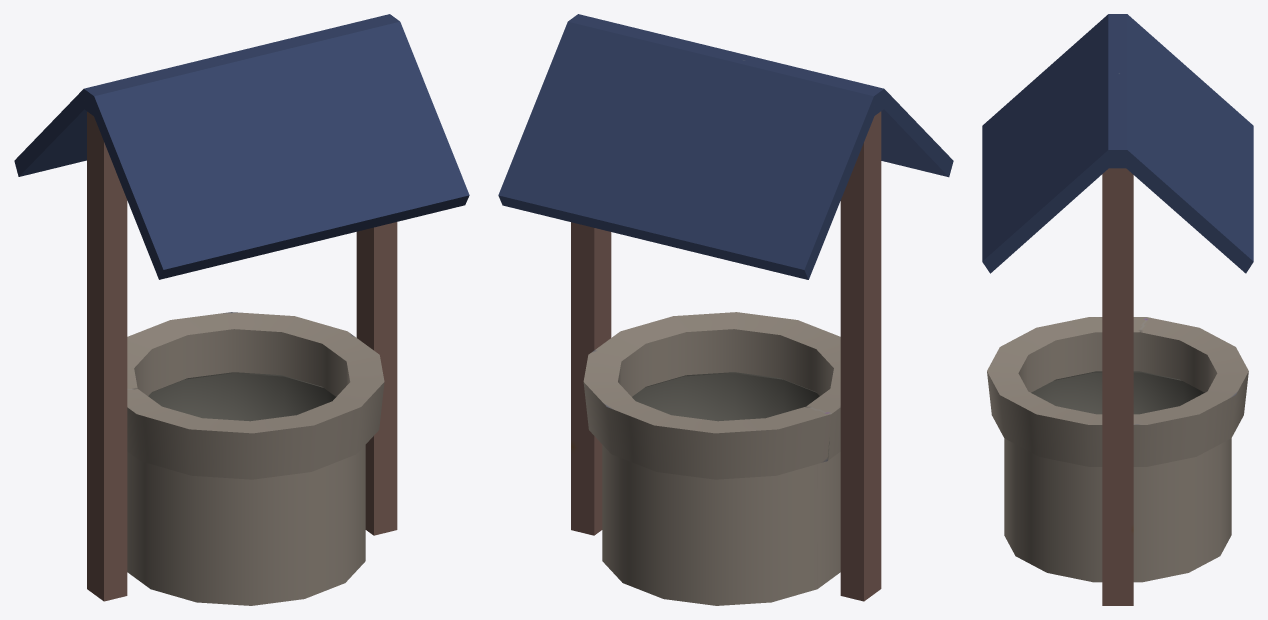
Rendered from Well.fbx.
3 renders of one model, left to right at view 1: azimuth 30°, elevation 25°; view 2: azimuth 150°, elevation 25°; view 3: azimuth 270°, elevation 25°, orthographic. The views are drawn at different scales.
Parts seen in each view (by area): view 1: Well; view 2: Well; view 3: Well.
Part boxes in pixels (box(x1,y1,x2,y2)): Well: box(14, 14, 469, 605); Well: box(498, 14, 953, 605); Well: box(982, 14, 1253, 605).
Size of the model in its own units: 1.09 by 1.71 by 0.9181.
